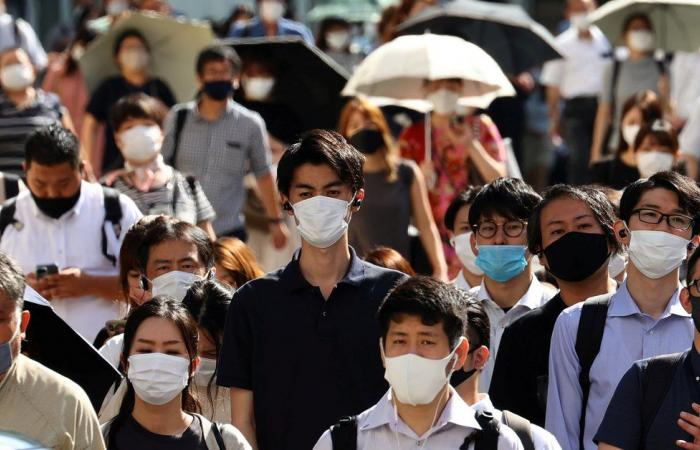with_incorrect_mask: (481, 213, 518, 275), (37, 172, 65, 213), (205, 62, 225, 97)
with_mask: (387, 318, 433, 394), (135, 326, 179, 390), (547, 208, 594, 264), (643, 202, 684, 265), (122, 112, 158, 167), (158, 250, 194, 300)
